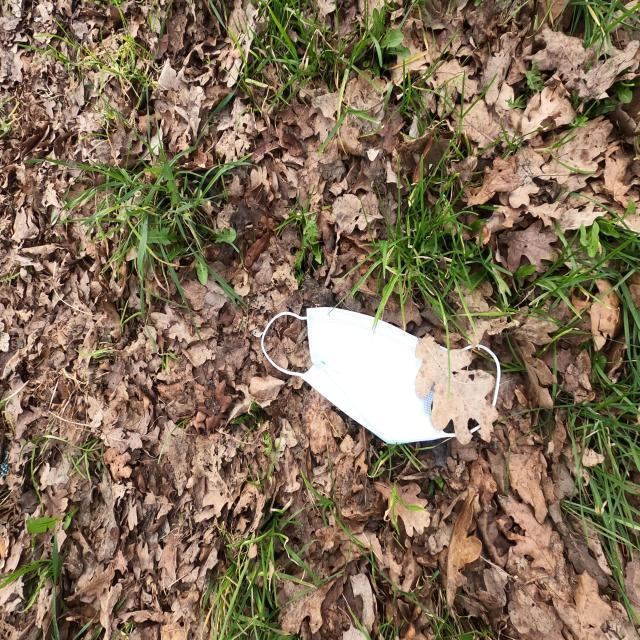Mask: (259, 302, 506, 448)
